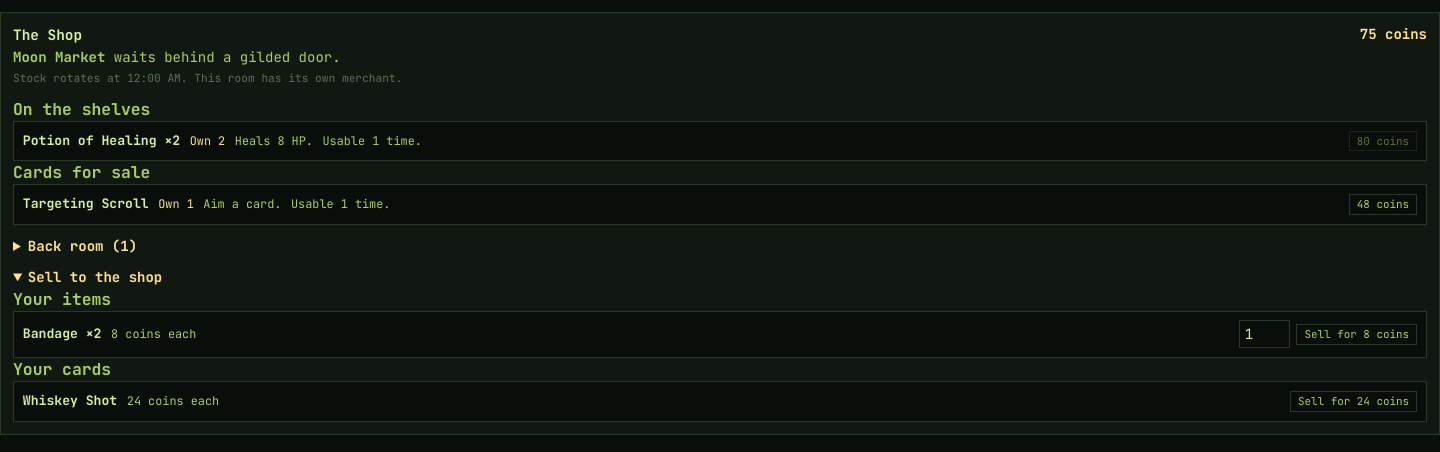
Test: ShopPanel › selling › disables the Sell button once the field is cleared
Clear the number field named "How many Bandage to sell" at (1264, 334), box [1239,320,1290,348]
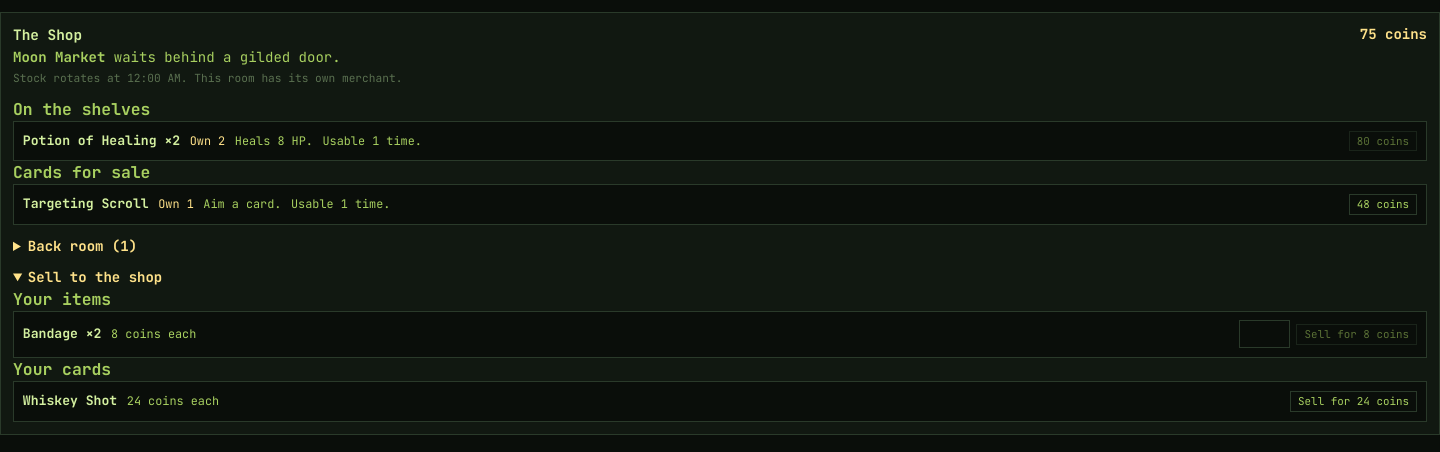
Result: the button "Sell for 8 coins" is disabled at [1296,324,1417,345]
